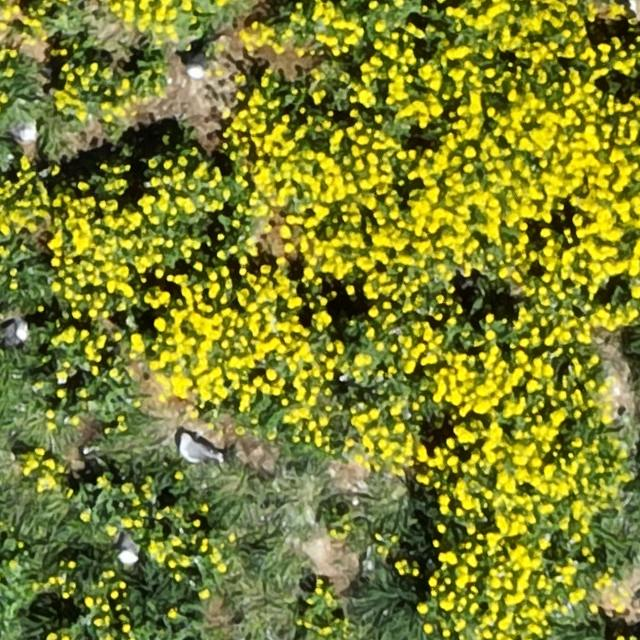umineko: (186, 32, 222, 78), (9, 104, 45, 146), (178, 437, 214, 461), (2, 322, 28, 346), (119, 532, 137, 566)
